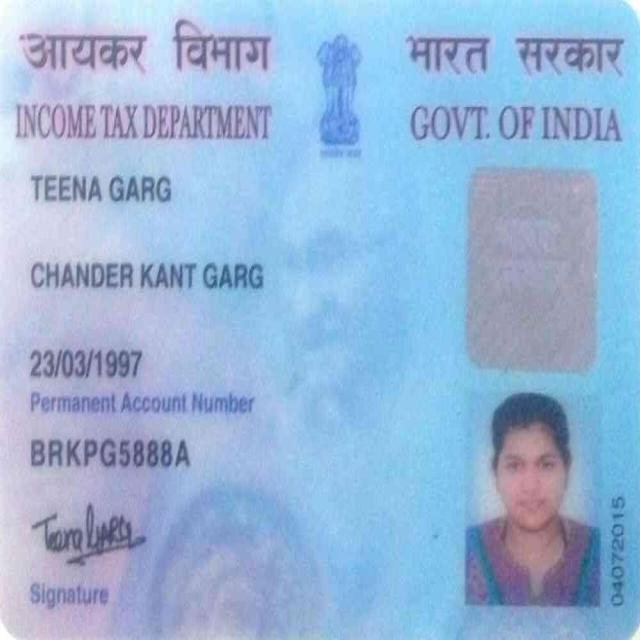pan_card: (1, 0, 639, 635)
